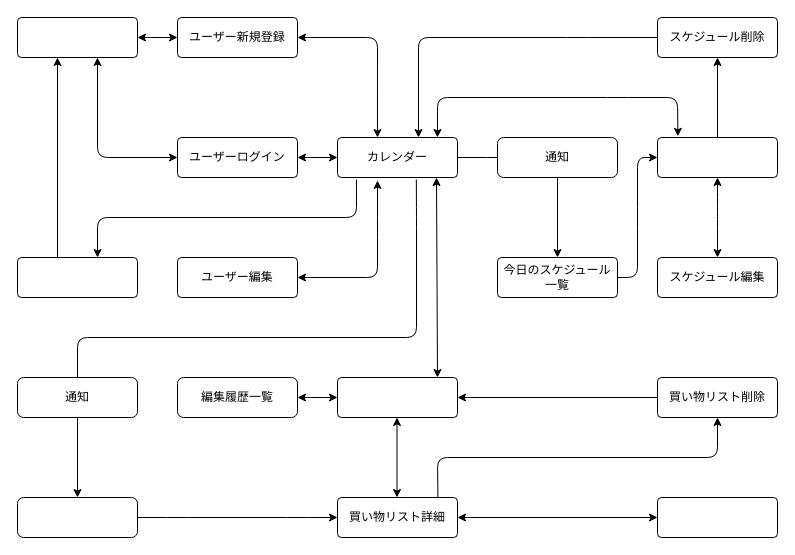
Image size: 795x555. Some labels were removed from this diagram. Each missing label, with the centre of its shape:
"スケジュール詳細" goes at [717,157].
"トップページ" goes at [77,37].
"ユーザー削除" goes at [77,277].
"今日の買い物リスト一覧" goes at [77,517].
"買い物リスト一覧" goes at [397,397].
"買い物リスト編集" goes at [717,517].
